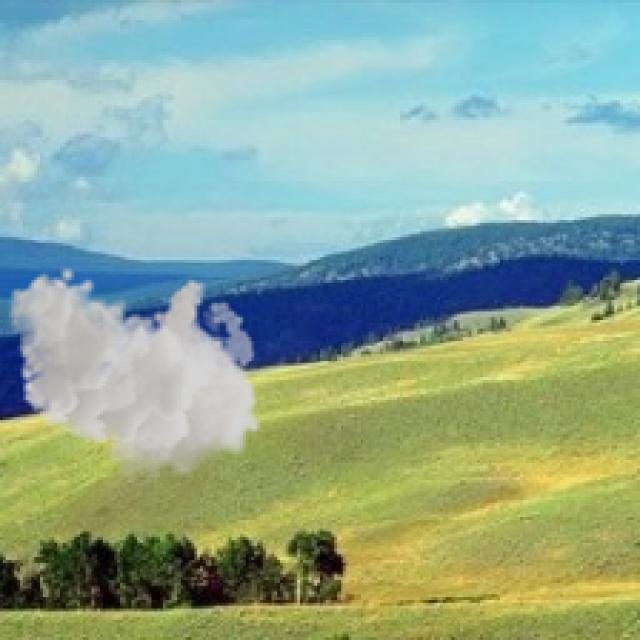Smoke: (8, 266, 263, 486)
